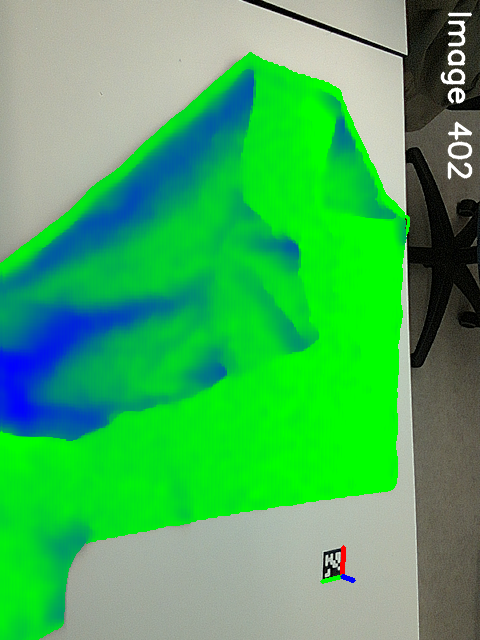V: (270, 313, 334, 364), (308, 178, 349, 219)
